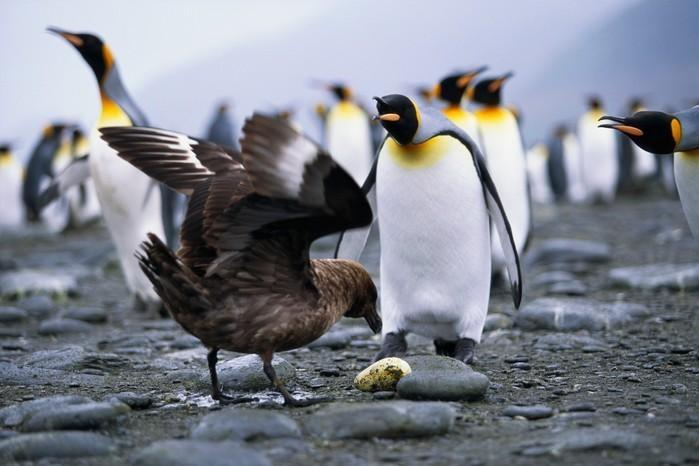Penguin: (333, 95, 521, 362), (37, 27, 165, 311), (599, 106, 697, 239), (472, 72, 530, 252), (321, 85, 374, 186), (23, 125, 71, 235), (575, 99, 620, 203), (434, 65, 486, 150), (491, 225, 504, 274)
